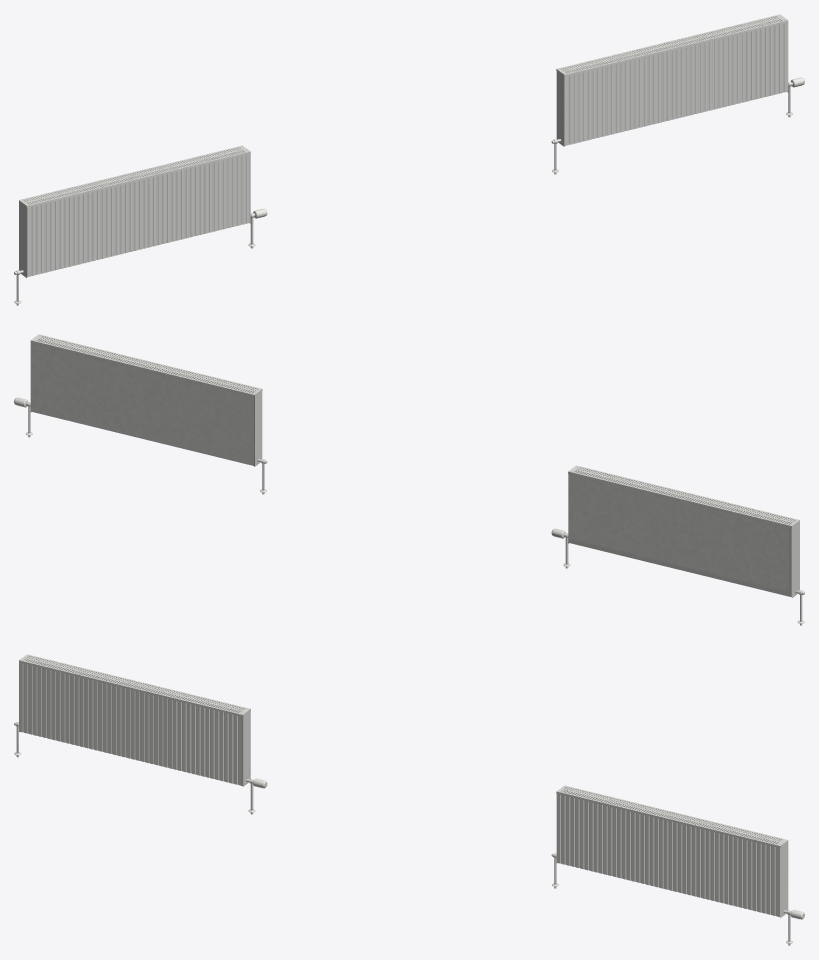
Rendered from same_seed_lab_radiators.glb.
The picture shows the model from 3 angles, top to bottom: view 1: azimuth 30°, elevation 25°; view 2: azimuth 150°, elevation 25°; view 3: azimuth 330°, elevation 25°; orthographic projection.
Visible parts, largest first — view 1: radiator_1_front_low, radiator_0_front_low, radiator_1_grille_low, radiator_0_grille_low, radiator_1_ends_low, radiator_0_ends_low, radiator_1_back_low, radiator_0_back_low; view 2: radiator_1_back_low, radiator_0_back_low, radiator_1_grille_low, radiator_0_grille_low, radiator_1_ends_low, radiator_0_ends_low, radiator_1_front_low, radiator_0_front_low; view 3: radiator_1_front_low, radiator_0_front_low, radiator_1_grille_low, radiator_0_grille_low, radiator_1_ends_low, radiator_0_ends_low, radiator_0_back_low, radiator_1_back_low.
Boxes of the visible parts, bbox=[...] form: radiator_1_front_low: bbox=[564, 22, 788, 145]; radiator_0_front_low: bbox=[27, 154, 250, 277]; radiator_1_grille_low: bbox=[556, 14, 788, 74]; radiator_0_grille_low: bbox=[19, 145, 250, 206]; radiator_1_ends_low: bbox=[556, 16, 788, 146]; radiator_0_ends_low: bbox=[19, 147, 250, 277]; radiator_1_back_low: bbox=[562, 17, 780, 73]; radiator_0_back_low: bbox=[24, 148, 243, 204]; radiator_1_back_low: bbox=[30, 342, 254, 465]; radiator_0_back_low: bbox=[568, 474, 791, 597]; radiator_1_grille_low: bbox=[30, 334, 262, 394]; radiator_0_grille_low: bbox=[568, 465, 799, 526]; radiator_1_ends_low: bbox=[30, 336, 262, 466]; radiator_0_ends_low: bbox=[568, 467, 799, 597]; radiator_1_front_low: bbox=[38, 337, 256, 393]; radiator_0_front_low: bbox=[575, 468, 794, 524]; radiator_1_front_low: bbox=[556, 794, 780, 916]; radiator_0_front_low: bbox=[19, 662, 242, 785]; radiator_1_grille_low: bbox=[556, 785, 787, 845]; radiator_0_grille_low: bbox=[19, 654, 250, 714]; radiator_1_ends_low: bbox=[556, 787, 788, 917]; radiator_0_ends_low: bbox=[19, 656, 250, 786]; radiator_0_back_low: bbox=[26, 656, 243, 712]; radiator_1_back_low: bbox=[564, 787, 780, 843].
Size of the model in its own units: 5.65 by 0.69 by 0.1024.
5 materials, 5 textured.
